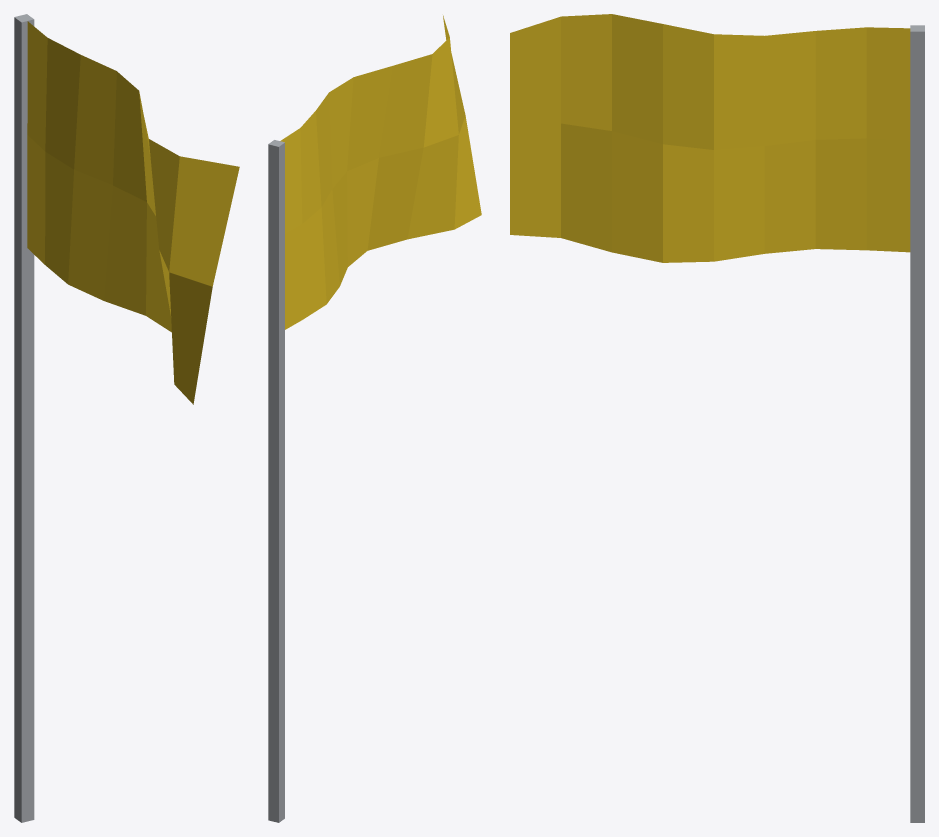
The model's file is mastro_2.glb.
3 renders of one model, left to right at view 1: azimuth 30°, elevation 25°; view 2: azimuth 150°, elevation 25°; view 3: azimuth 270°, elevation 25°, orthographic. The views are drawn at different scales.
Parts seen in each view (by area): view 1: cor, aco; view 2: cor, aco; view 3: cor, aco.
Part boxes in pixels (box(x1,y1,x2,y2)): cor: box(27, 21, 239, 404); aco: box(14, 14, 34, 822); cor: box(280, 15, 481, 329); aco: box(268, 140, 284, 822); cor: box(510, 14, 910, 262); aco: box(910, 25, 924, 822).
Bounding box in the file's own units: 0.4555 × 6 × 2.85.
